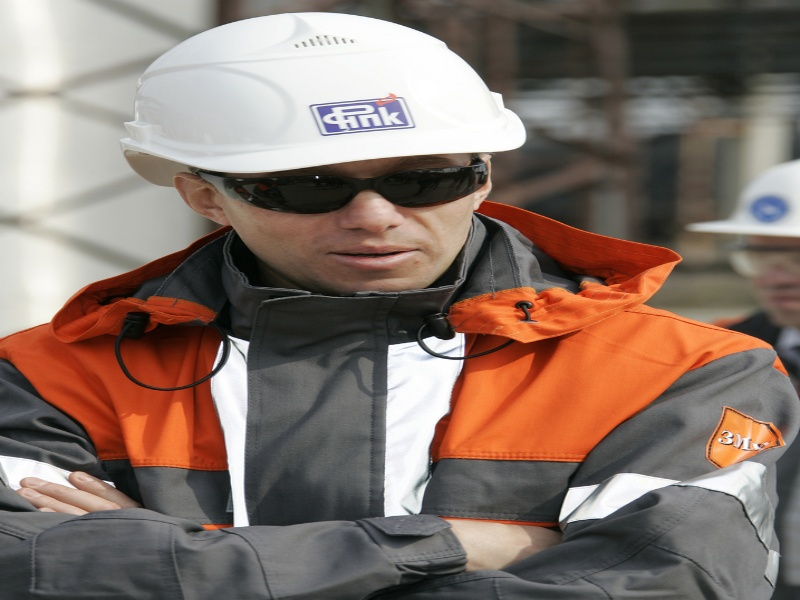Baret: (116, 13, 528, 172)
